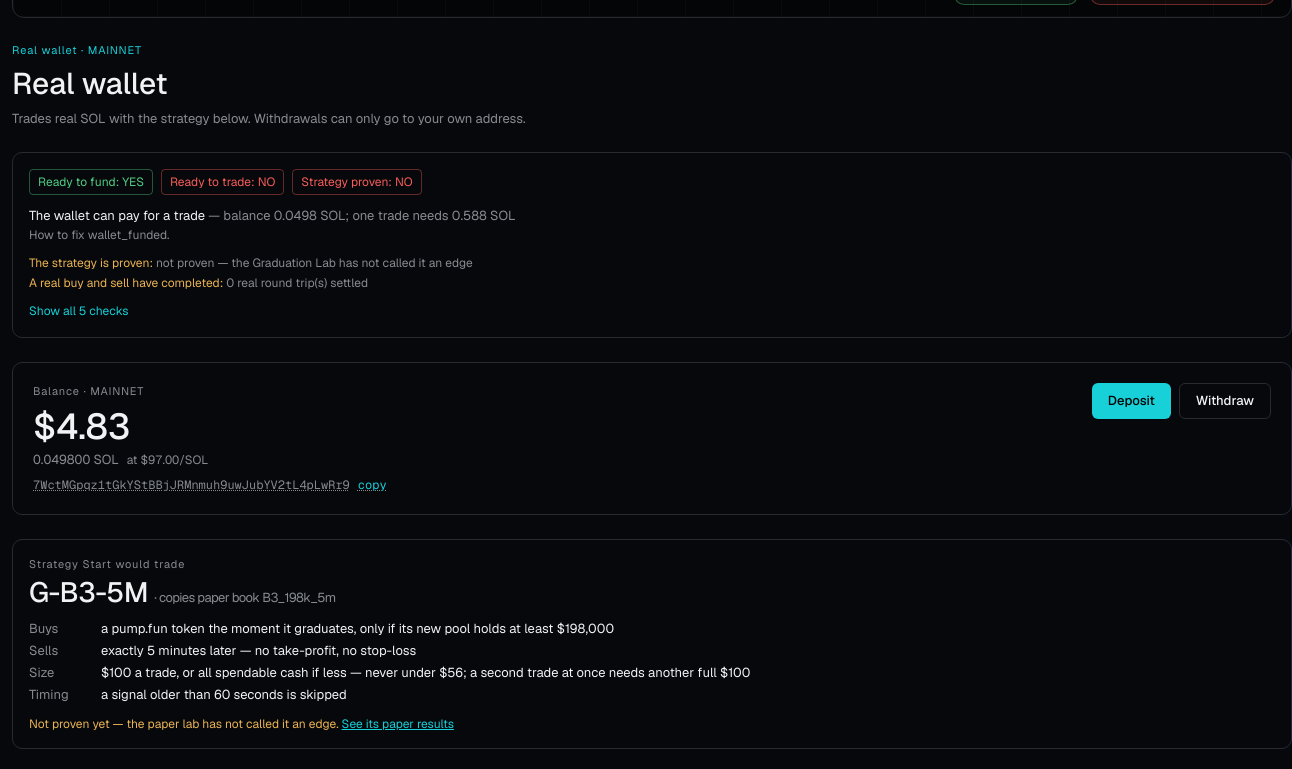
Test case: RealWalletPage withdrawal › offers nothing to press when no destination is nominated
(page scrolled)
Check: the button "7WctMGpqz1tGkYStBBjJRMnmuh9uwJubYV2tL4pLwRr9" is shown, box [33,476,387,492]
Click the button "Withdraw".
click(1225, 400)  # box [1179,382,1271,418]
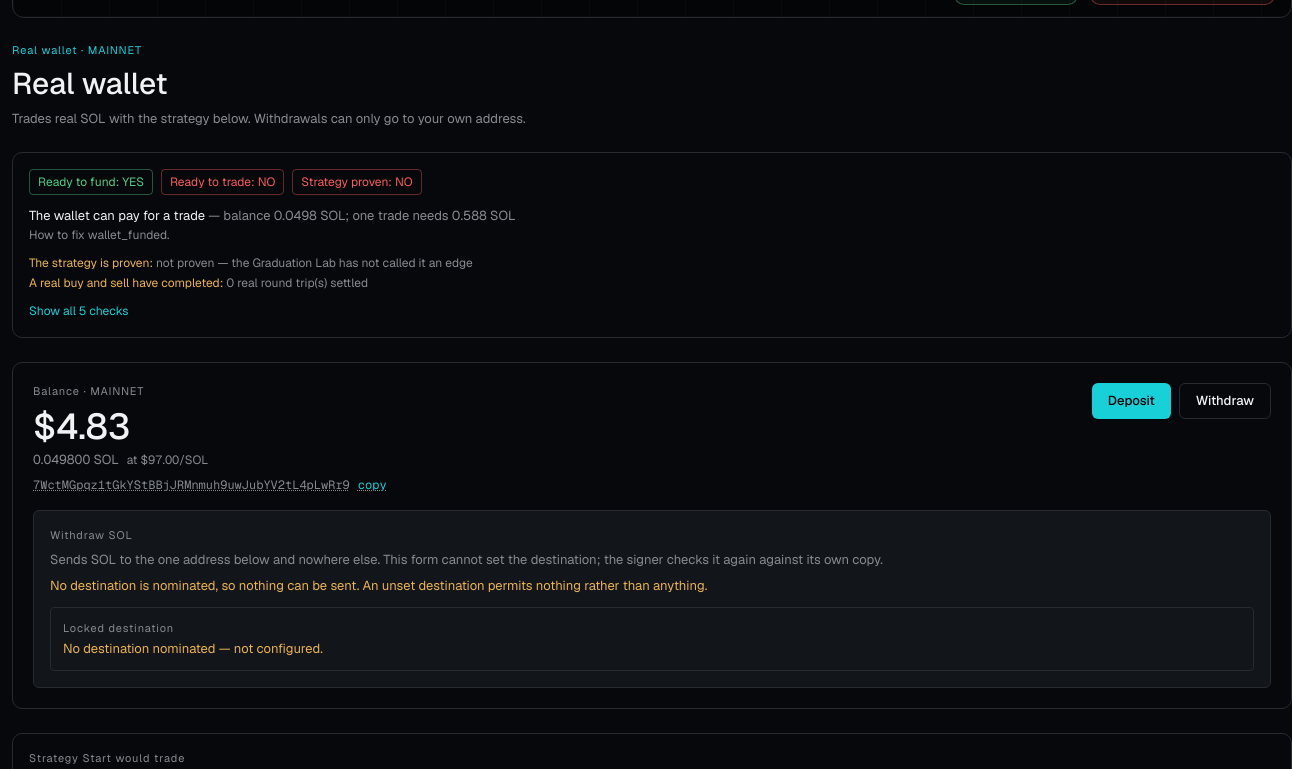
Check: the text "No destination is nominated" is shown, box [50,577,707,594]
